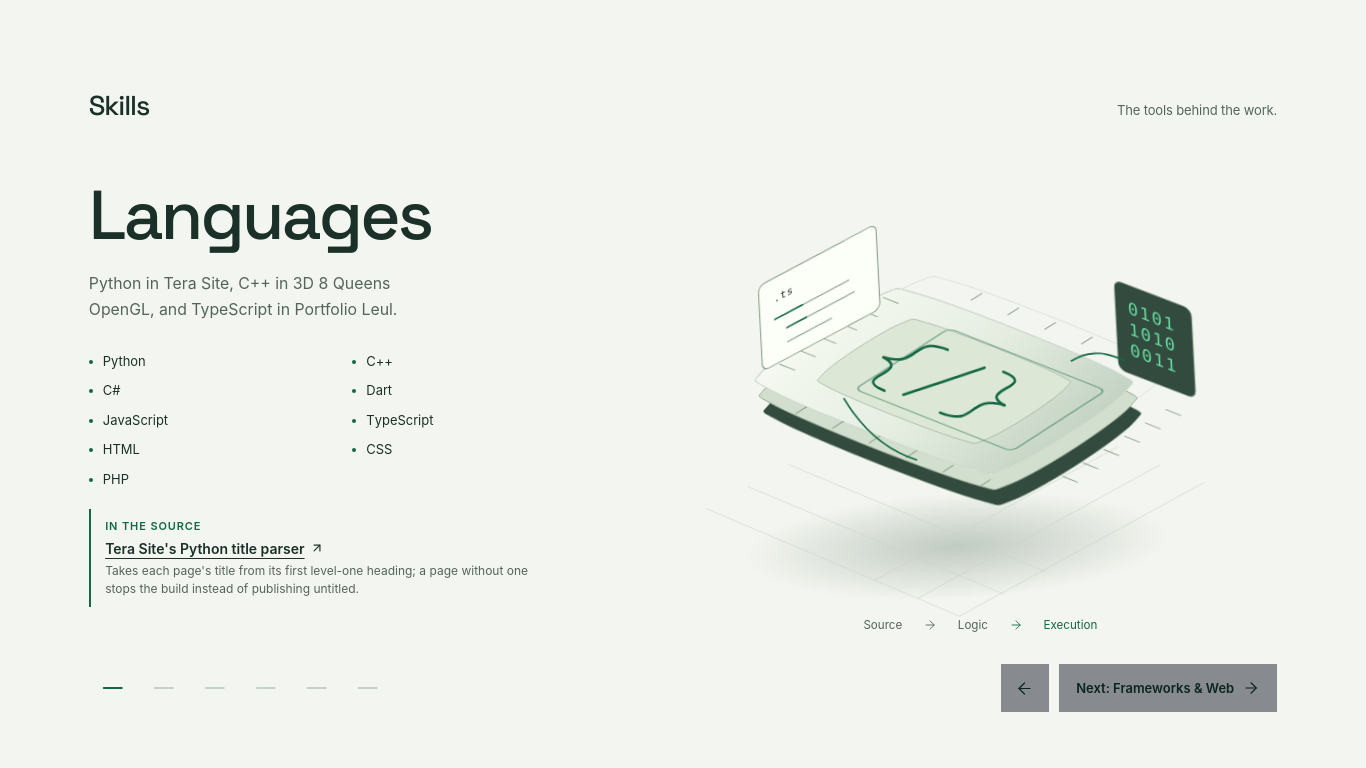
Skills completed-beat playback › lets the progress lines jump directly to a skill and back without spending scroll distance
Expected: the button "Next: Frameworks & Web" is enabled, [1059, 664, 1277, 712]
Click the button named "Show Professional Skills".
click(368, 688)  # box [344, 664, 392, 712]
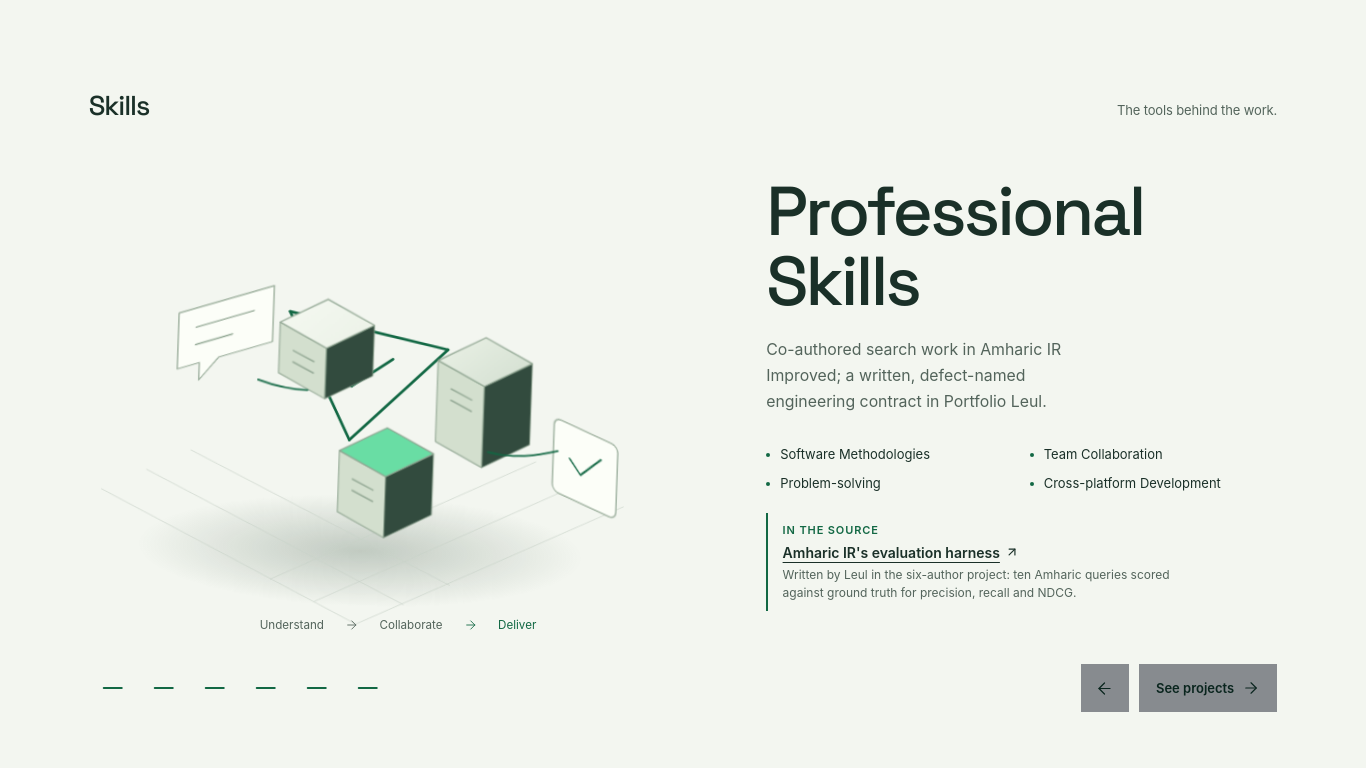
Expected: the button "See projects" is enabled, [1139, 664, 1277, 712]
Expected: the button named "Show Professional Skills" is marked as current, [344, 664, 392, 712]
Click the button named "Show AI & Data Science".
click(215, 688)  # box [191, 664, 239, 712]
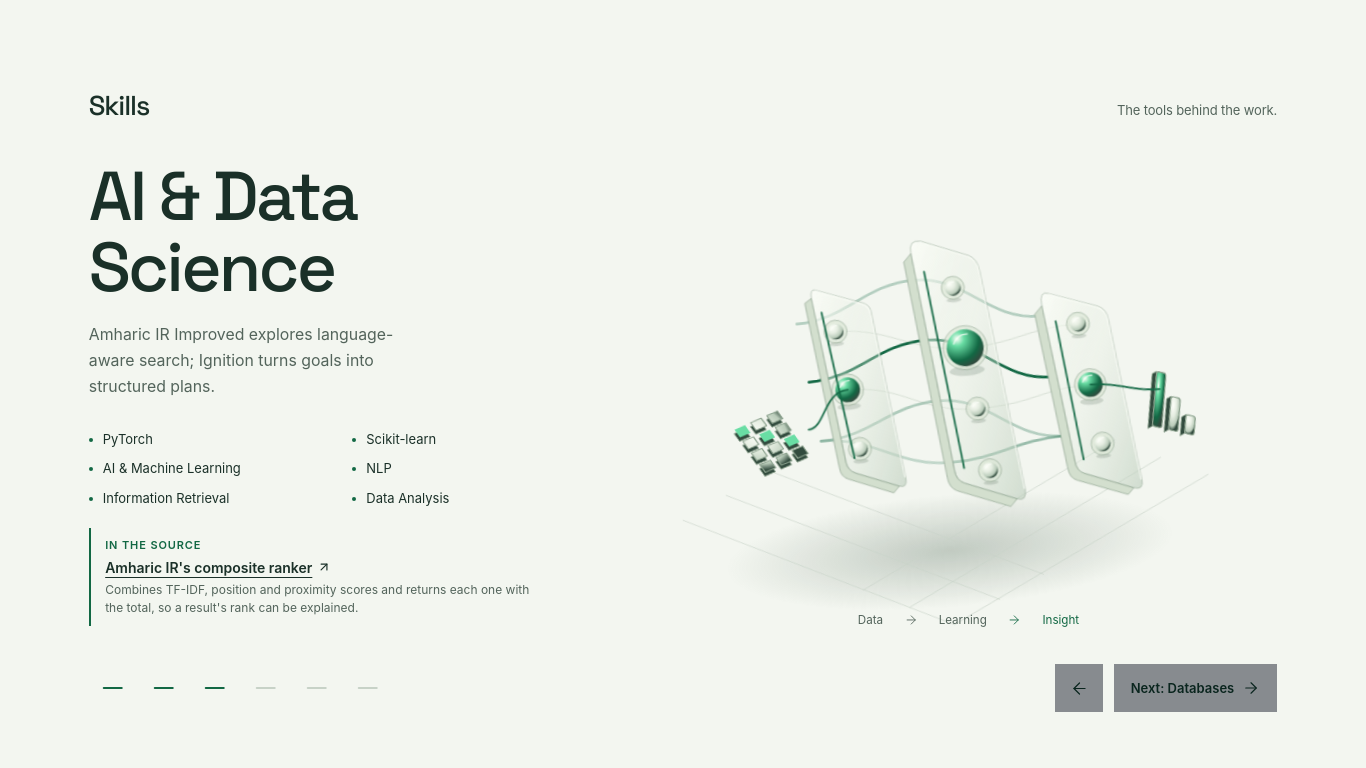
Expected: the button "Next: Databases" is enabled, [1114, 664, 1277, 712]
Expected: the heading "AI & Data Science" is shown, [89, 152, 357, 311]
